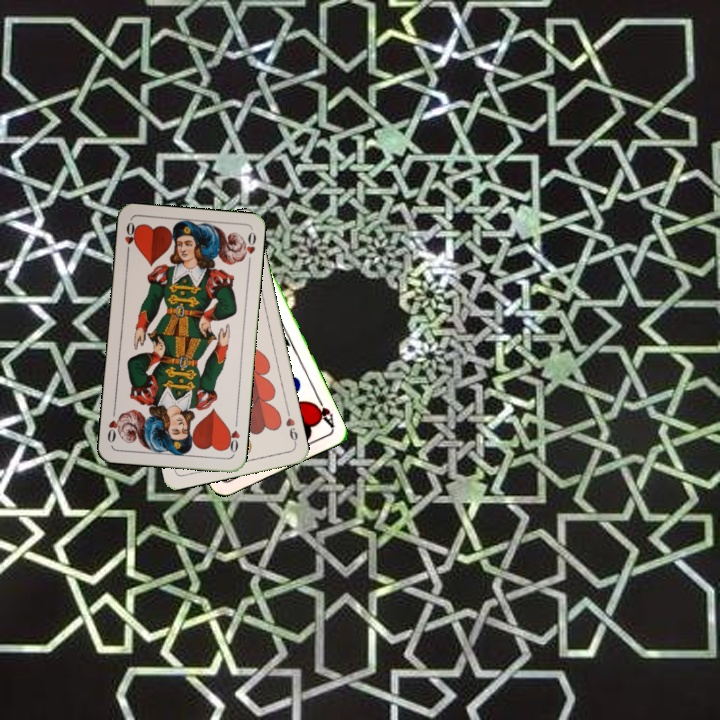H9: (282, 414, 300, 447)
HA: (308, 392, 337, 430)
HO: (222, 416, 242, 456), (121, 218, 139, 259)
